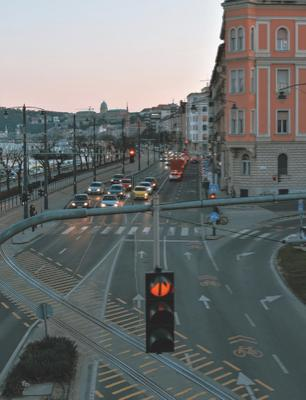International Road Signal Light: (145, 273, 175, 353)
